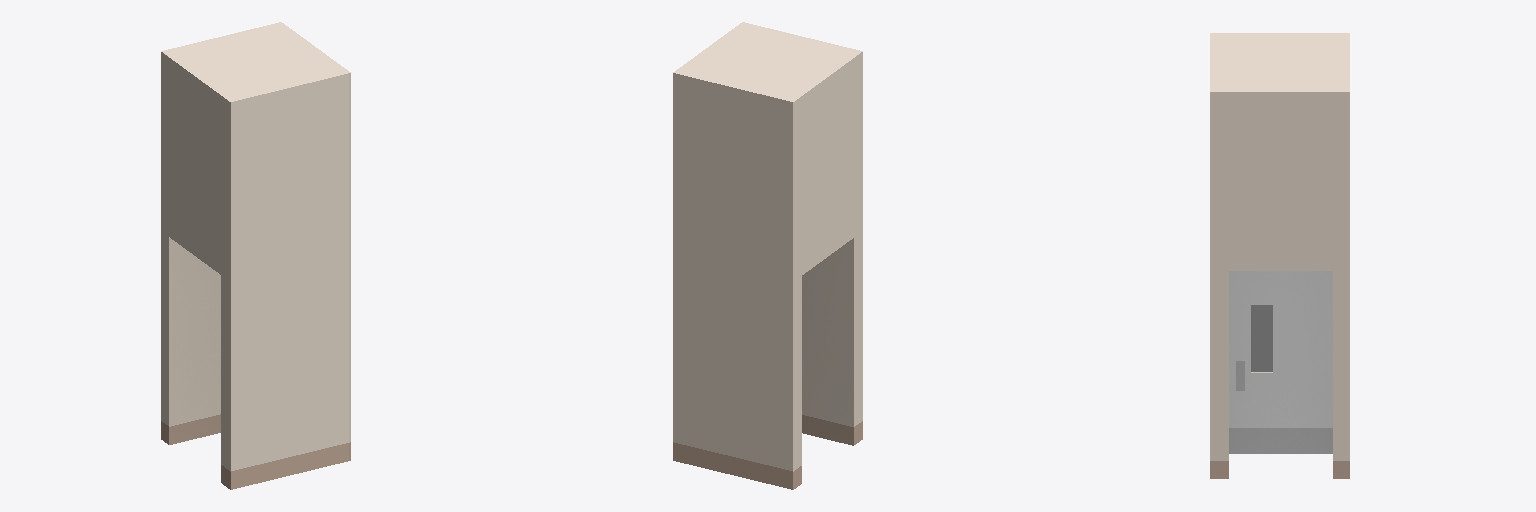
3 renders of one model, left to right at view 1: azimuth 30°, elevation 25°; view 2: azimuth 150°, elevation 25°; view 3: azimuth 270°, elevation 25°, orthographic.
Parts seen in each view (by area): view 1: Cube.033_Cube.006; view 2: Cube.033_Cube.006; view 3: Cube.033_Cube.006, Cube.001.
Boxes of the visible parts, box(x1,y1,x2,y2) form: Cube.033_Cube.006: box(161, 22, 350, 489); Cube.033_Cube.006: box(673, 22, 862, 489); Cube.033_Cube.006: box(1210, 33, 1349, 478); Cube.001: box(1251, 305, 1272, 371).
Size of the model in its own units: 4 by 12.29 by 4.
Materials: 2 (1 with a texture image).